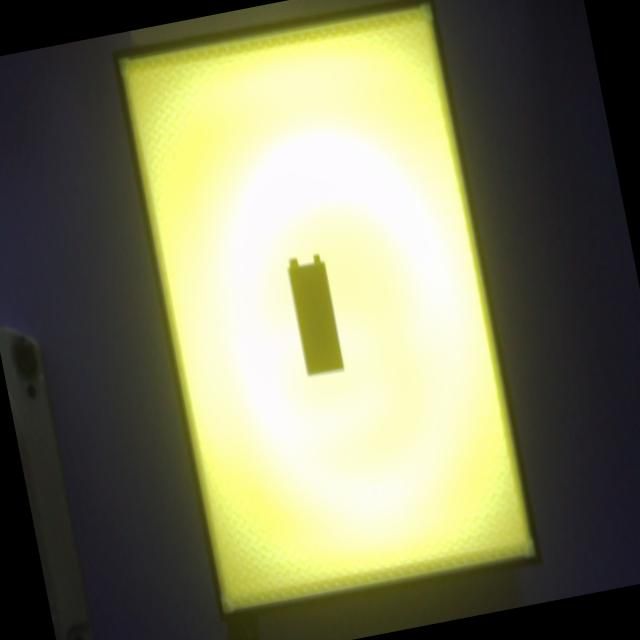bateria: (287, 255, 345, 378)
mesa: (111, 0, 542, 625)
